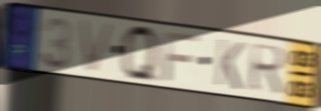3: (41, 16, 73, 70)
F: (161, 30, 201, 84)
K: (213, 36, 246, 93)
Q: (120, 22, 159, 87)
R: (248, 41, 290, 96)
V: (76, 17, 118, 76)
